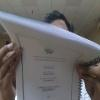notebook: (0, 9, 99, 99)
